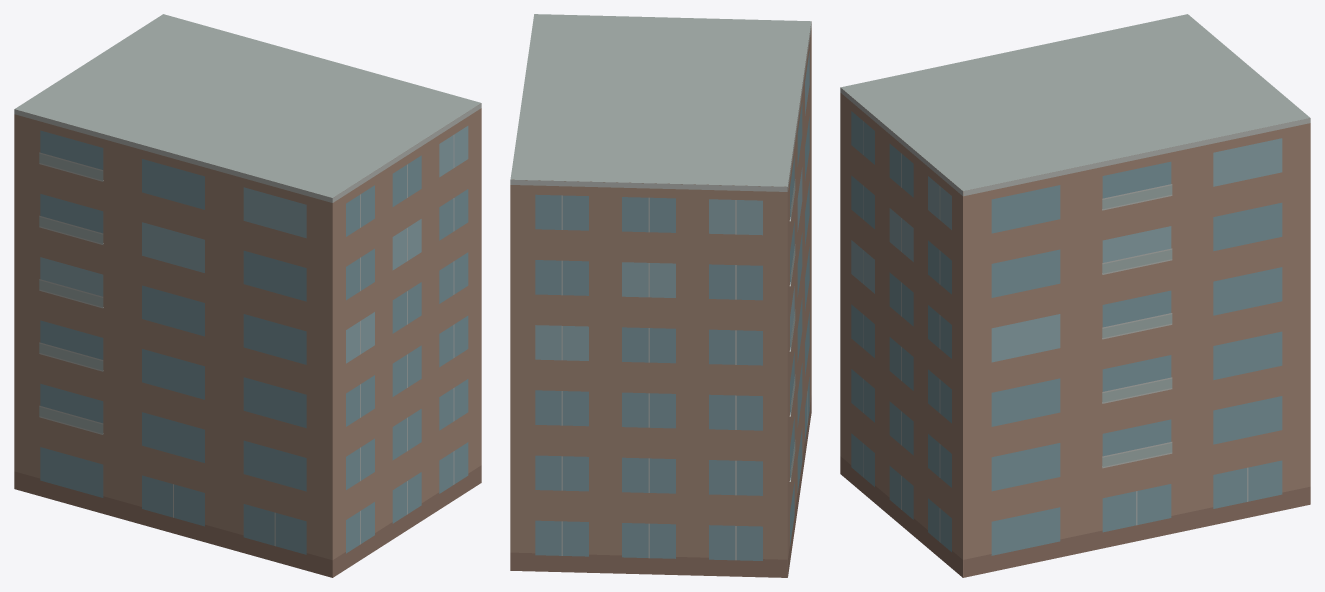
The model's file is survey-upis-33001282.glb.
The picture shows the model from 3 angles, left to right: view 1: azimuth 30°, elevation 25°; view 2: azimuth 150°, elevation 25°; view 3: azimuth 270°, elevation 25°; orthographic projection. The views are drawn at different scales.
Visible parts, largest first — view 1: survey-upis-33001282.tmp; view 2: survey-upis-33001282.tmp; view 3: survey-upis-33001282.tmp.
Boxes of the visible parts, x1,y1,x2,y2 form: survey-upis-33001282.tmp: [14, 14, 481, 577]; survey-upis-33001282.tmp: [510, 14, 811, 577]; survey-upis-33001282.tmp: [840, 14, 1310, 577].
Size of the model in its own units: 18 by 18.3 by 20.17.
